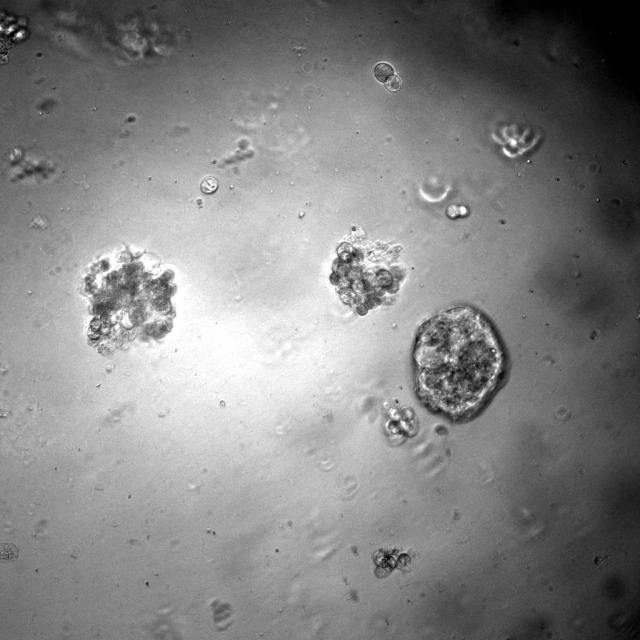organoid: (82, 246, 176, 353), (330, 228, 405, 315), (103, 13, 178, 62), (491, 121, 543, 159), (8, 147, 55, 182), (0, 10, 29, 64), (385, 406, 418, 441), (374, 548, 411, 577), (374, 61, 402, 92), (0, 542, 19, 561), (446, 204, 469, 219), (201, 175, 218, 194), (434, 425, 449, 436)
